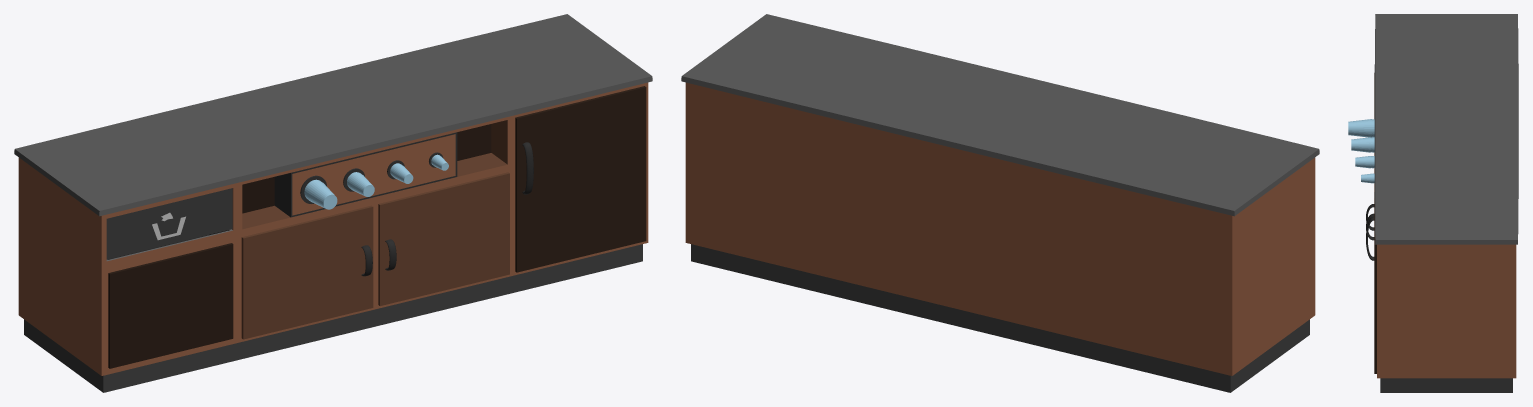
Rendered from Slushie Counter Brown.fbx.
3 views of the same model, side by side, from view 1: azimuth 30°, elevation 25°; view 2: azimuth 150°, elevation 25°; view 3: azimuth 270°, elevation 25° (orthographic). The views are drawn at different scales.
Visible parts, largest first — view 1: Slushie Counter Brown; view 2: Slushie Counter Brown; view 3: Slushie Counter Brown.
Boxes of the visible parts, x1,y1,x2,y2 form: Slushie Counter Brown: (14,14,652,392); Slushie Counter Brown: (681,14,1319,392); Slushie Counter Brown: (1348,14,1518,392).
Bounding box in the file's own units: 308 × 98.83 × 97.82.
1 material, 1 textured.
